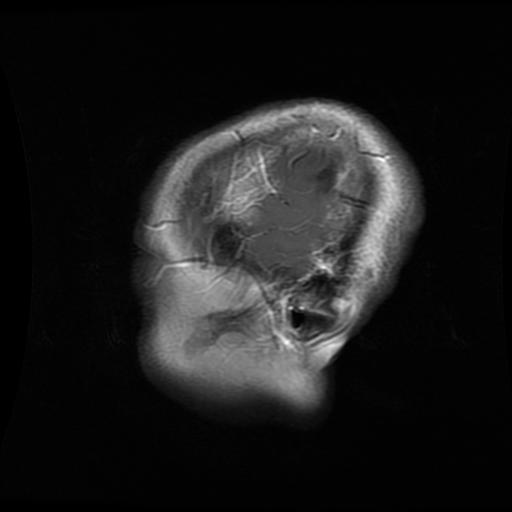Gliomia_tumour: (210, 140, 285, 224)
